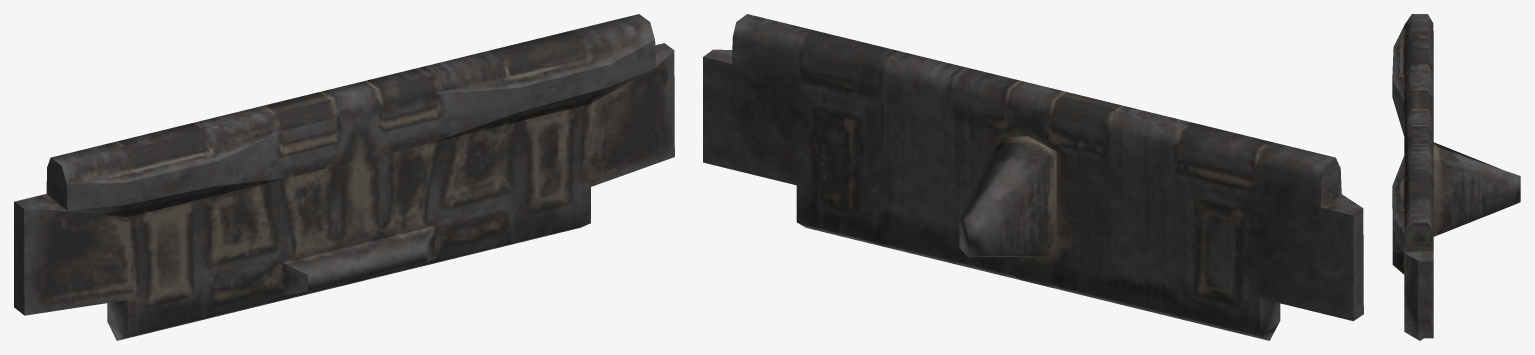
The picture shows the model from 3 angles, left to right: view 1: azimuth 30°, elevation 25°; view 2: azimuth 150°, elevation 25°; view 3: azimuth 270°, elevation 25°; orthographic projection. The views are drawn at different scales.
Visible parts, largest first — view 1: set_0_group_0; view 2: set_0_group_0; view 3: set_0_group_0.
Part boxes in pixels (bbox=[...]): set_0_group_0: bbox=[14, 14, 674, 340]; set_0_group_0: bbox=[703, 14, 1363, 340]; set_0_group_0: bbox=[1392, 14, 1520, 340].
Bounding box in the file's own units: 0.6937 × 0.1979 × 0.1632.
1 material, 1 textured.
